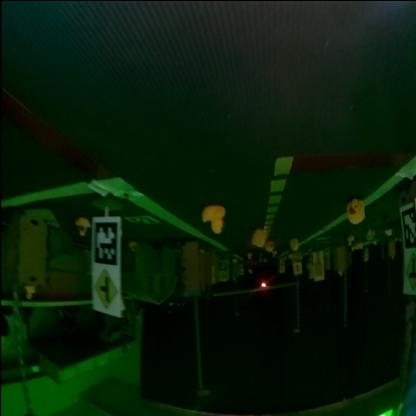Duckie: (202, 206, 226, 233), (346, 200, 366, 222), (76, 218, 88, 238), (252, 230, 265, 245), (290, 239, 300, 251), (266, 243, 274, 251), (369, 232, 375, 240), (131, 242, 137, 250), (247, 252, 252, 258), (348, 238, 352, 244)
Intersection sign: (93, 270, 118, 310)
QR code: (94, 220, 118, 266)
